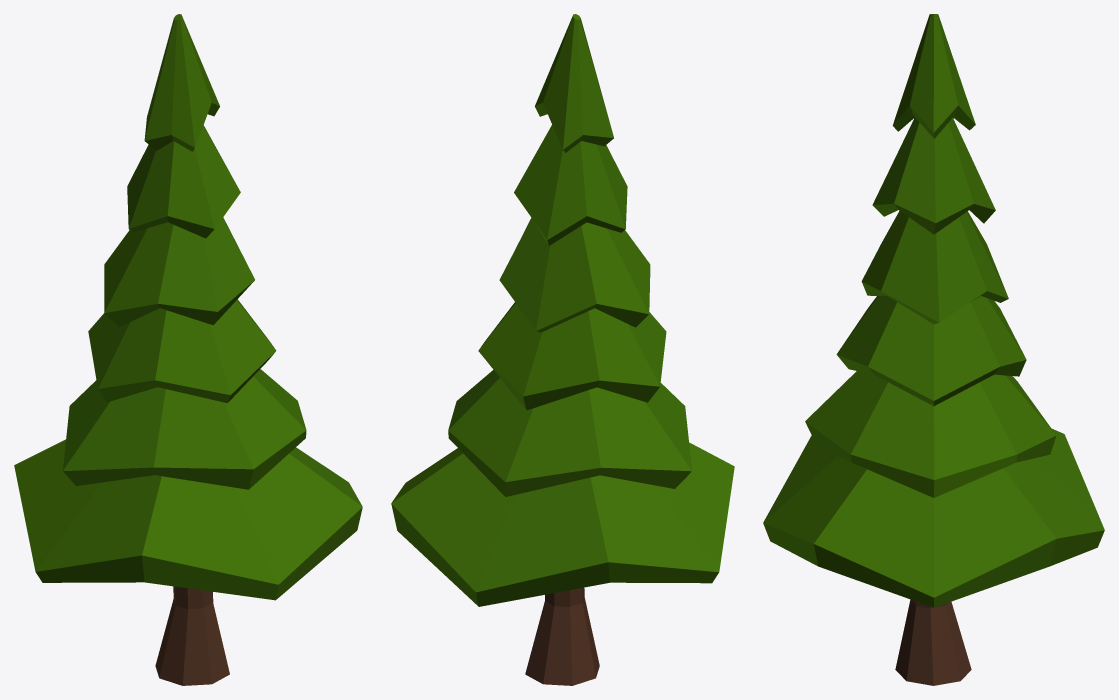
Rendered from Tree_Pine_Straight.fbx.
3 views of the same model, side by side, from view 1: azimuth 30°, elevation 25°; view 2: azimuth 150°, elevation 25°; view 3: azimuth 270°, elevation 25° (orthographic).
Visible parts, largest first — view 1: Tree Pine Straight; view 2: Tree Pine Straight; view 3: Tree Pine Straight.
Part boxes in pixels (x1,y1,x2,y2): Tree Pine Straight: [14, 14, 362, 685]; Tree Pine Straight: [391, 14, 734, 685]; Tree Pine Straight: [763, 14, 1104, 685].
Size of the model in its own units: 910 by 953 by 1912.
